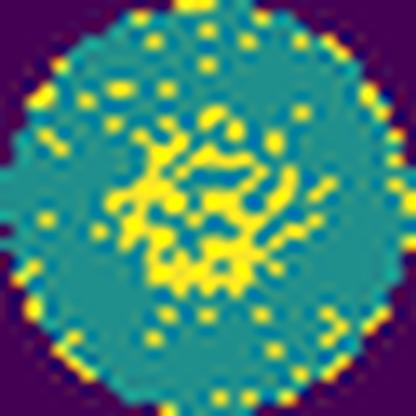Donut: (90, 92, 334, 314)
